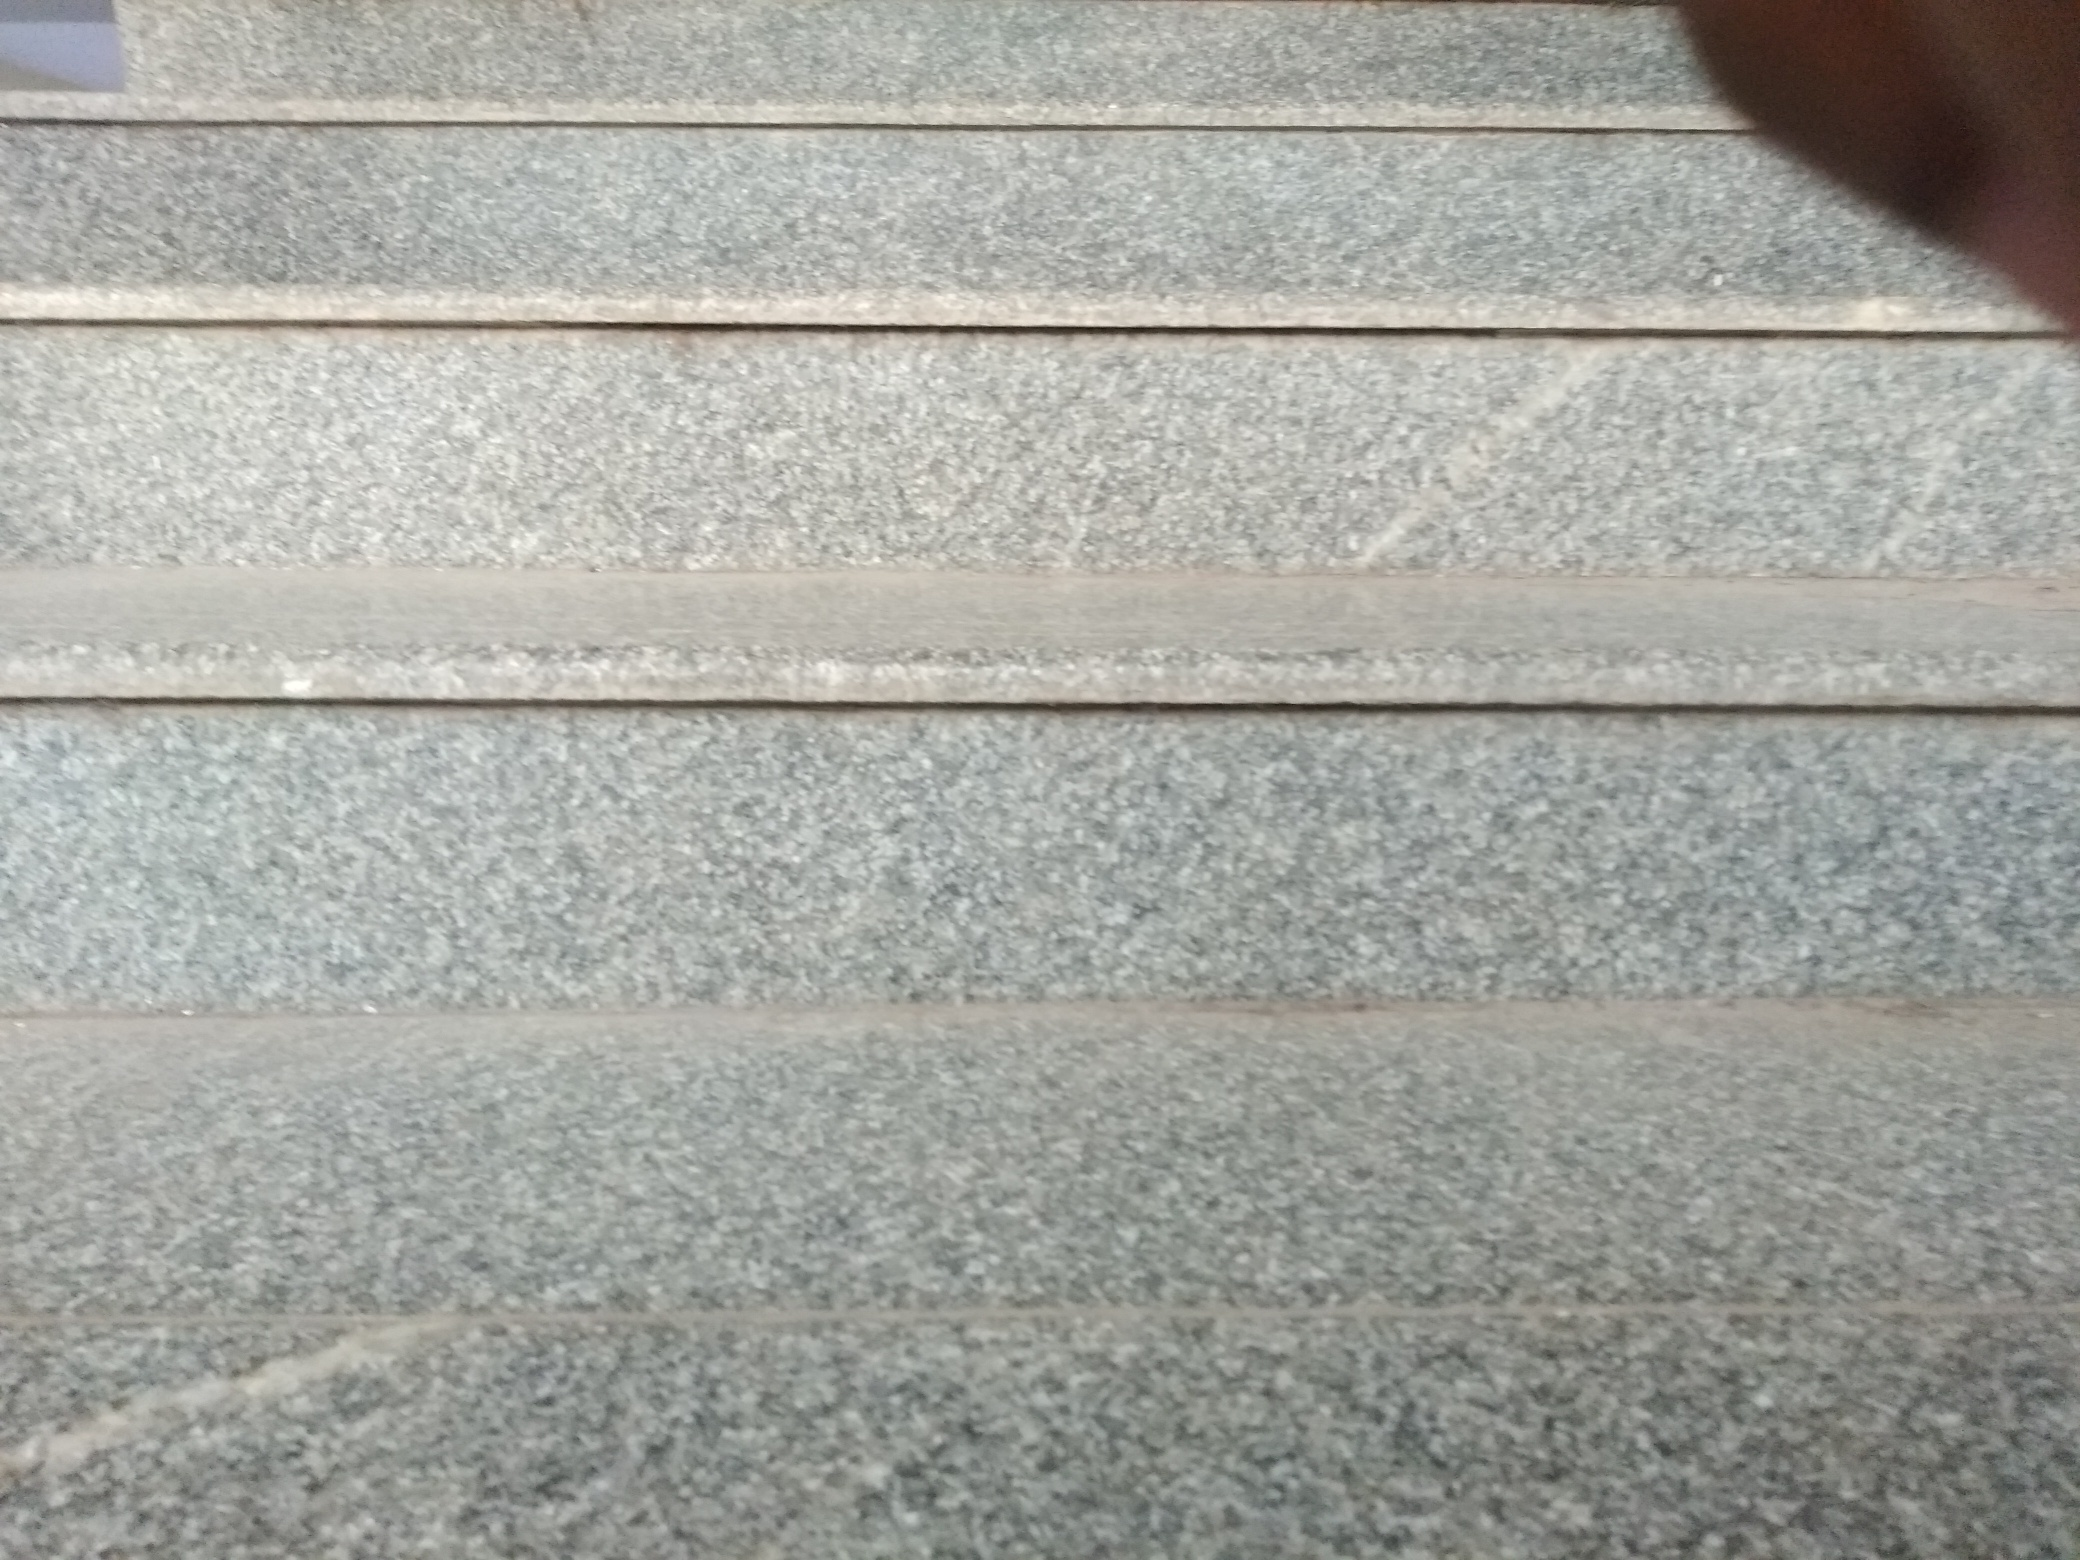stairs_up: (7, 90, 2080, 1068)
